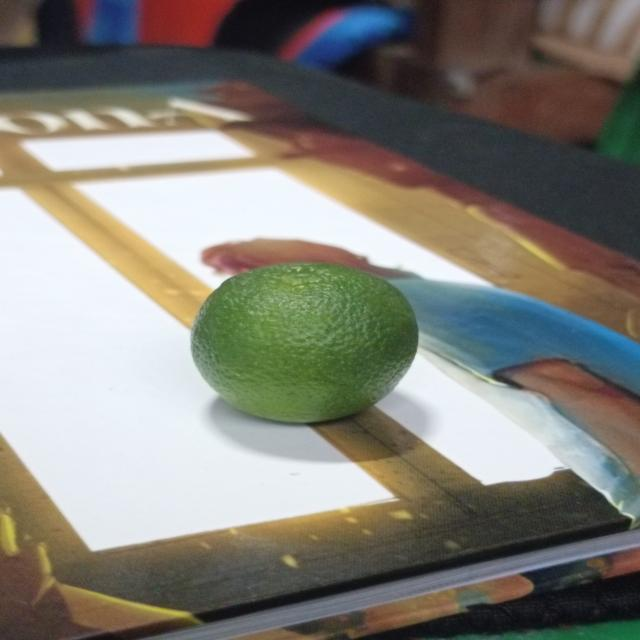heathy: (186, 255, 428, 426)
